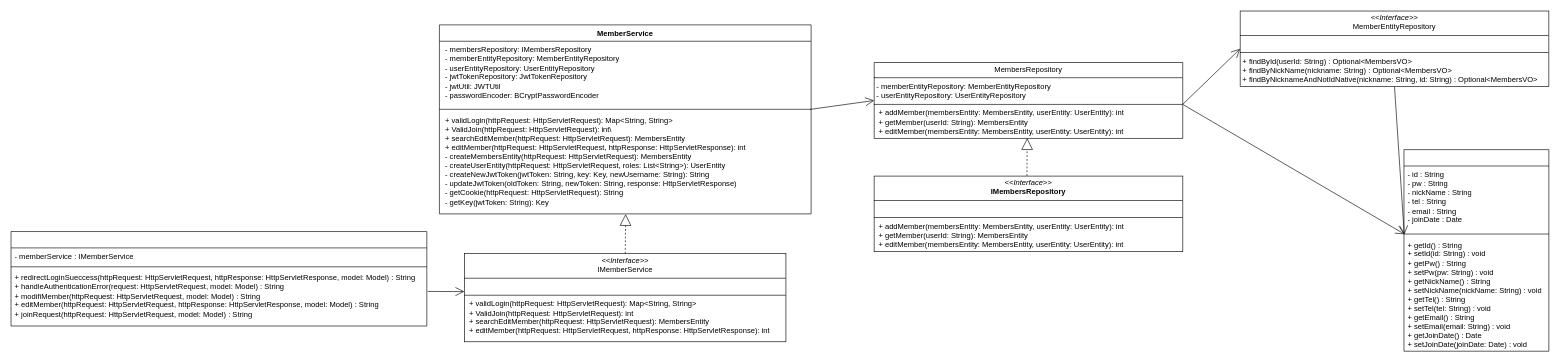
Some shapes in this 1560 by 364 pixel diagram are drawn without their labels. Each missing label, with the box of its shape:
MemberMembersController: (10, 231, 427, 326)
MembersVO: (1403, 149, 1549, 351)
